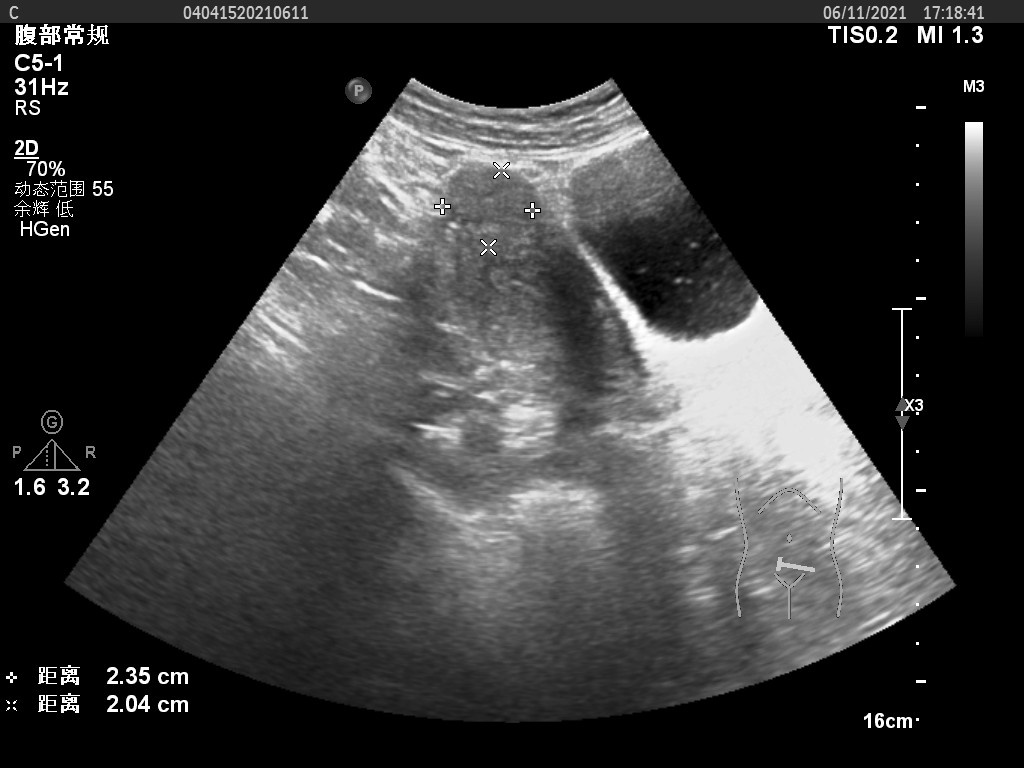肌瘤: (442, 173, 533, 245)
